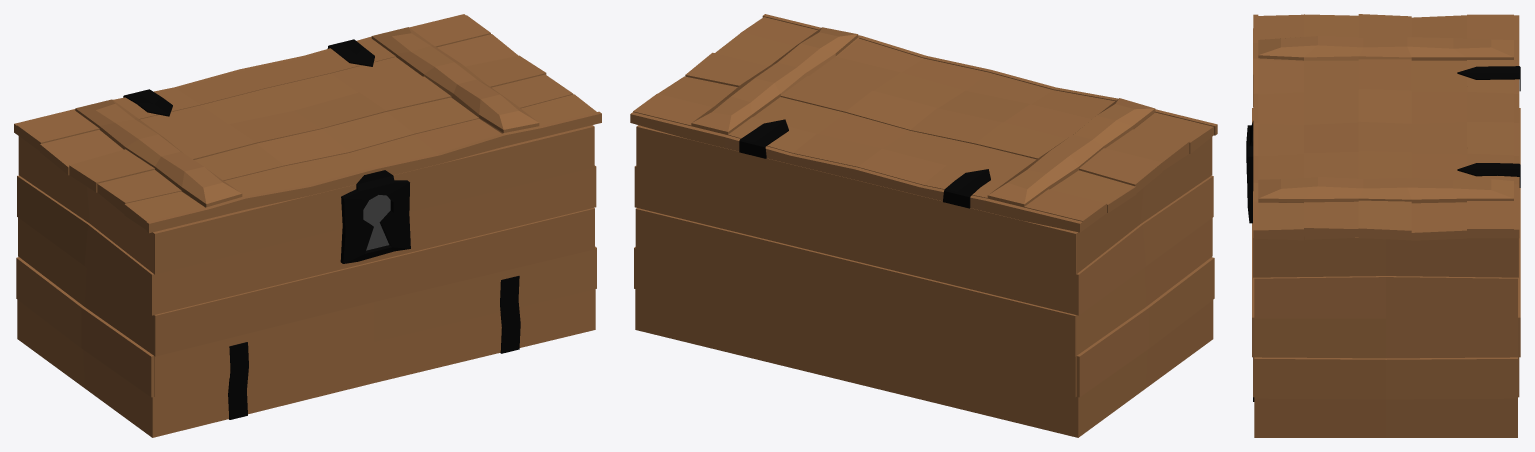
Rendered from Chest1.fbx.
3 views of the same model, side by side, from view 1: azimuth 30°, elevation 25°; view 2: azimuth 150°, elevation 25°; view 3: azimuth 270°, elevation 25° (orthographic). The views are drawn at different scales.
Parts seen in each view (by area): view 1: Cube.365, Cube.366; view 2: Cube.365, Cube.366; view 3: Cube.366, Cube.365.
Part boxes in pixels (<box>): Cube.365: <box>16,125,596,437</box>; Cube.366: <box>14,14,601,233</box>; Cube.365: <box>634,125,1214,437</box>; Cube.366: <box>630,14,1217,232</box>; Cube.366: <box>1253,14,1520,240</box>; Cube.365: <box>1246,28,1520,437</box>.
Size of the model in its own units: 416 by 200 by 224.
